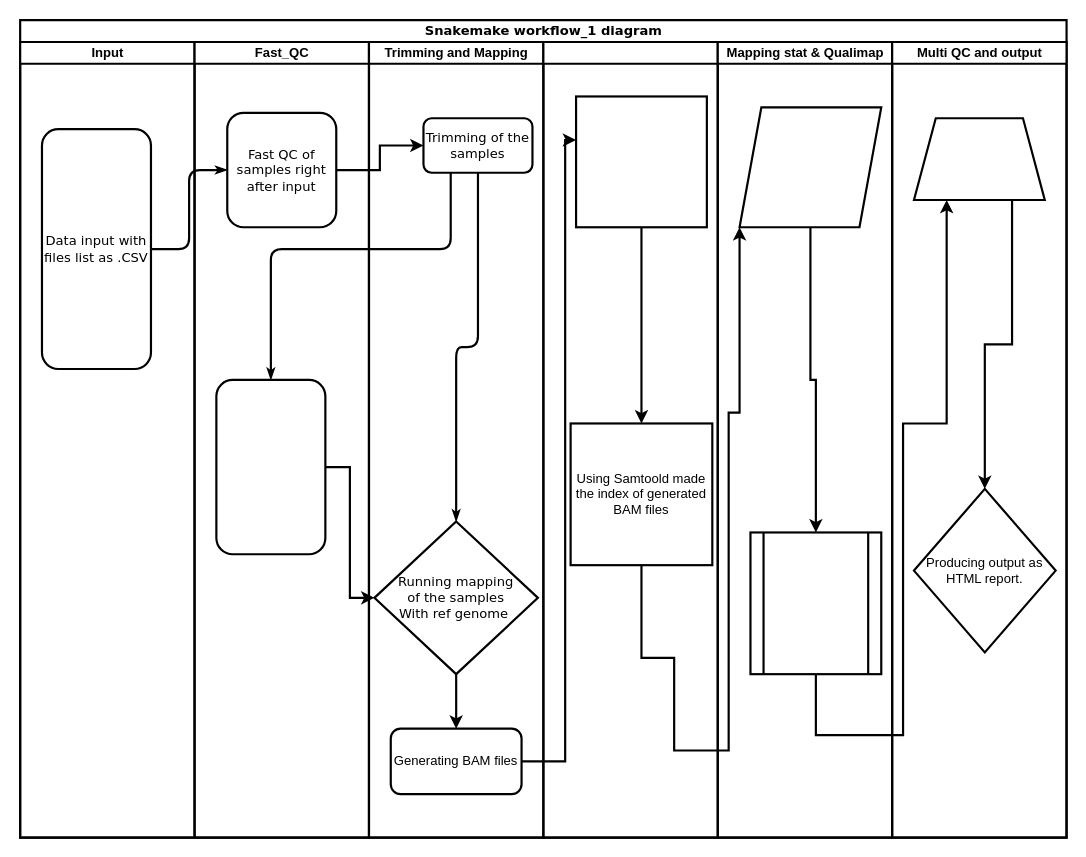
The diagram is 1086 pixels wide and 857 high, and some of its shapes have lost their labels. Each missing label, with the box of its shape:
Calculate and generate quality map according to the calculated stats of mapping.: (749, 531, 882, 675)
Calculates mapping statistics: (738, 106, 882, 228)
Fast QC again after the successfull trimming of samples.: (215, 378, 326, 555)
Getting analysis and compiling the final report: (912, 117, 1045, 201)
Sort Bam & index: (542, 40, 718, 838)
With Samtools sorted all the generated BAM files: (574, 95, 707, 228)
